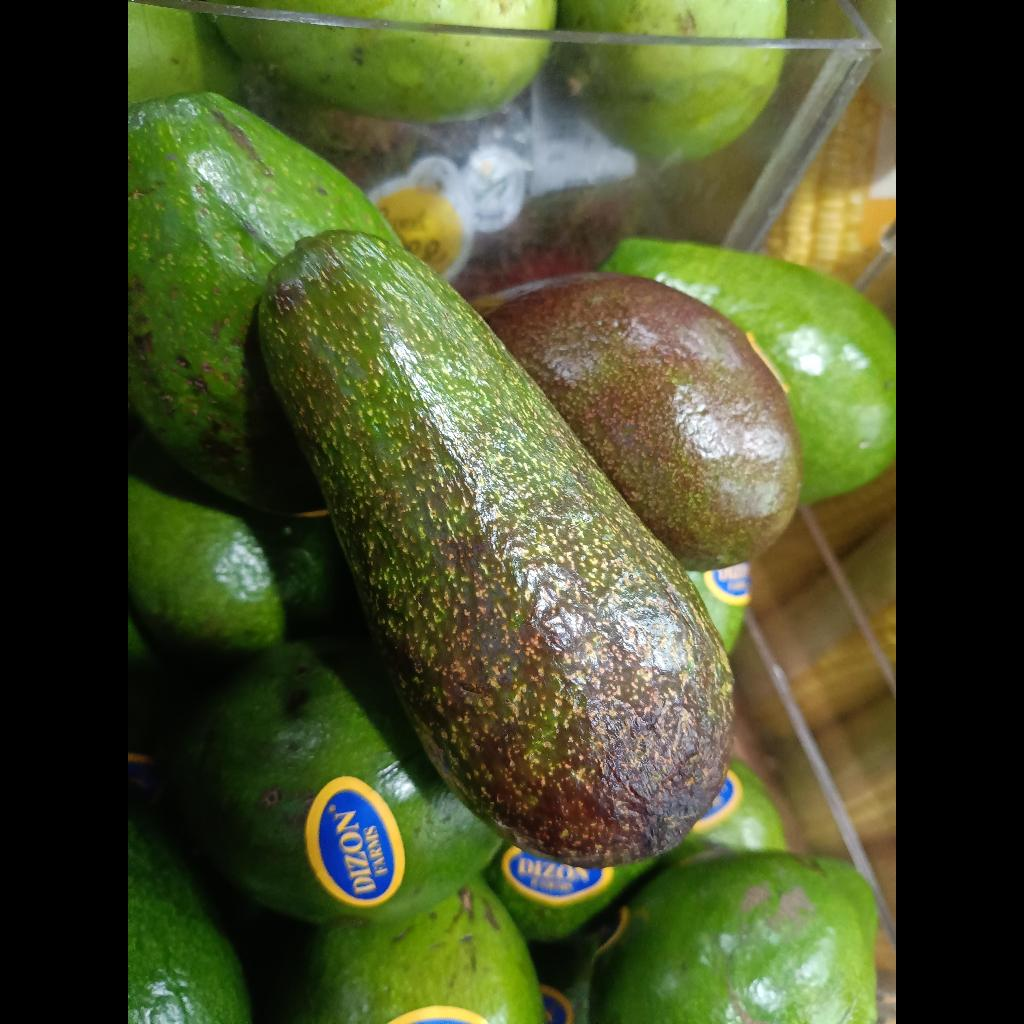anthracnose: (259, 231, 732, 868)
